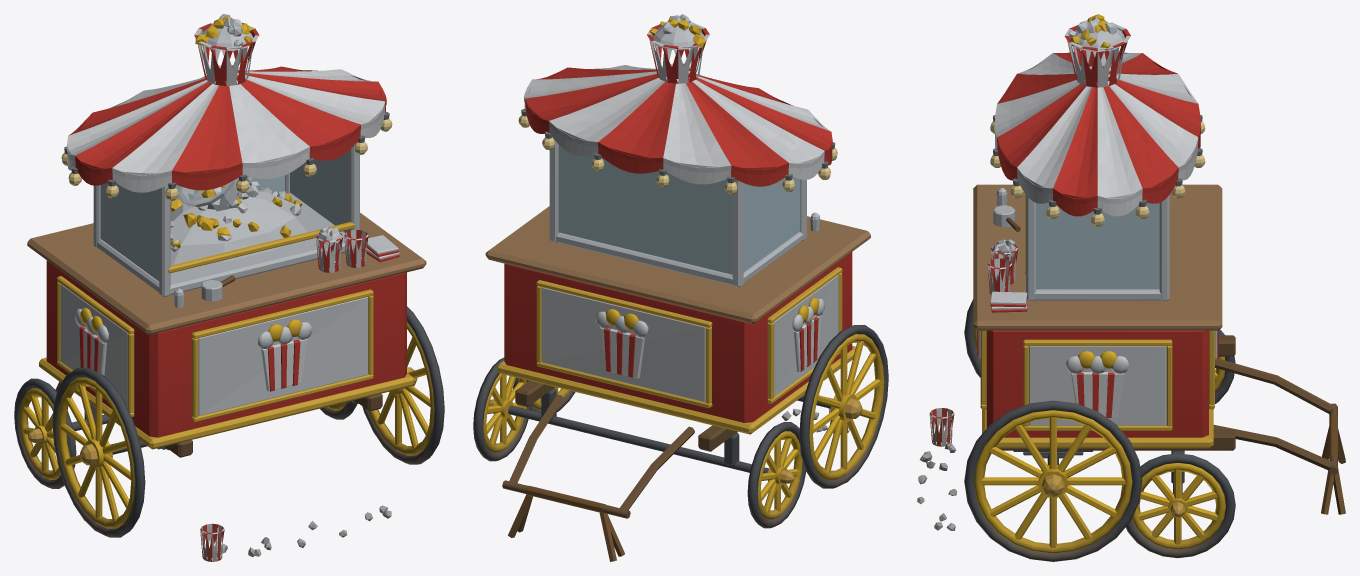
Rendered from popcorn-stall.glb.
3 views of the same model, side by side, from view 1: azimuth 30°, elevation 25°; view 2: azimuth 150°, elevation 25°; view 3: azimuth 270°, elevation 25° (orthographic). The views are drawn at different scales.
Visible parts, largest first — view 1: popcorn_stall; view 2: popcorn_stall; view 3: popcorn_stall.
Part boxes in pixels (x1,y1,x2,y2): popcorn_stall: [14, 14, 444, 561]; popcorn_stall: [473, 14, 888, 561]; popcorn_stall: [917, 14, 1345, 561].
Bounding box in the file's own units: 1.77 × 2.35 × 1.93.
